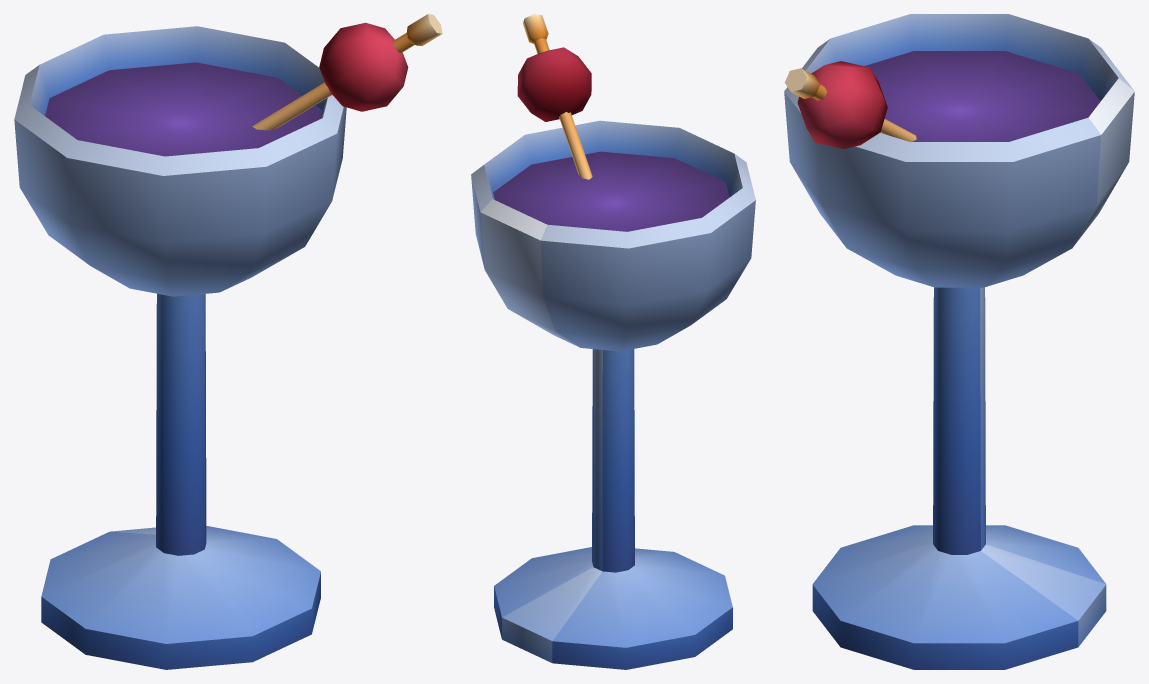
File: m_Cocktail07.fbx
3 renders of one model, left to right at view 1: azimuth 30°, elevation 25°; view 2: azimuth 150°, elevation 25°; view 3: azimuth 270°, elevation 25°, orthographic. The views are drawn at different scales.
Parts seen in each view (by area): view 1: m_Cocktail07; view 2: m_Cocktail07; view 3: m_Cocktail07.
Part boxes in pixels (left/top/right/bottom): m_Cocktail07: left=14, top=14, right=442, bottom=669; m_Cocktail07: left=471, top=14, right=755, bottom=669; m_Cocktail07: left=784, top=14, right=1134, bottom=669.
Bounding box in the file's own units: 13.06 × 23.56 × 11.93.
